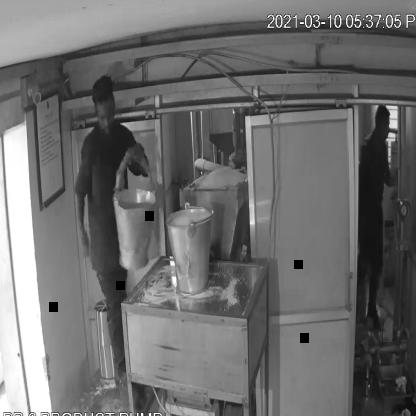no_glove: (66, 180, 102, 260)
